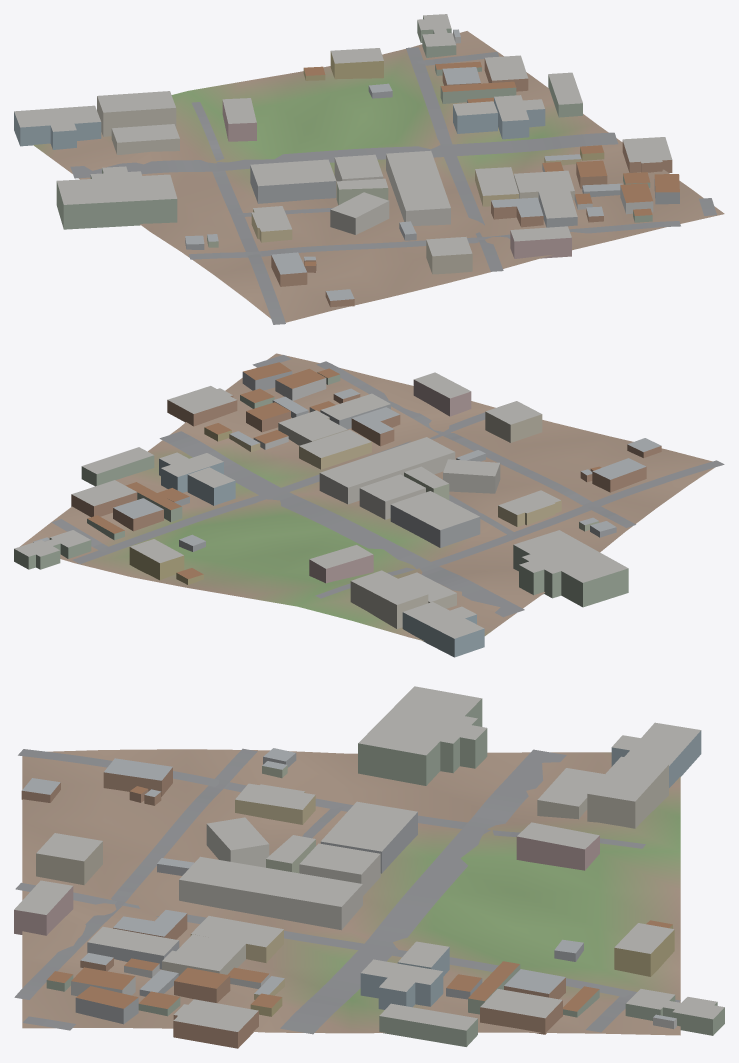
The picture shows the model from 3 angles, top to bottom: view 1: azimuth 30°, elevation 25°; view 2: azimuth 150°, elevation 25°; view 3: azimuth 270°, elevation 25°; orthographic projection. The views are drawn at different scales.
Visible parts, largest first — view 1: Lo; view 2: Lo; view 3: Lo.
Boxes of the visible parts, x1,y1,x2,y2 form: Lo: (14,14,724,324); Lo: (14,353,724,657); Lo: (14,686,724,1048).
Bounding box in the file's own units: 305 × 18.28 × 276.
